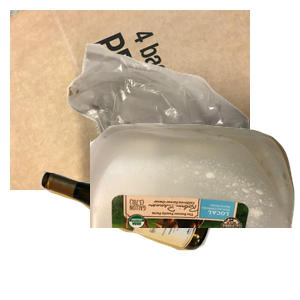cardboard: (10, 10, 250, 190)
glass: (37, 168, 242, 300)
plastic: (90, 120, 300, 300)
trash: (65, 41, 300, 221)
